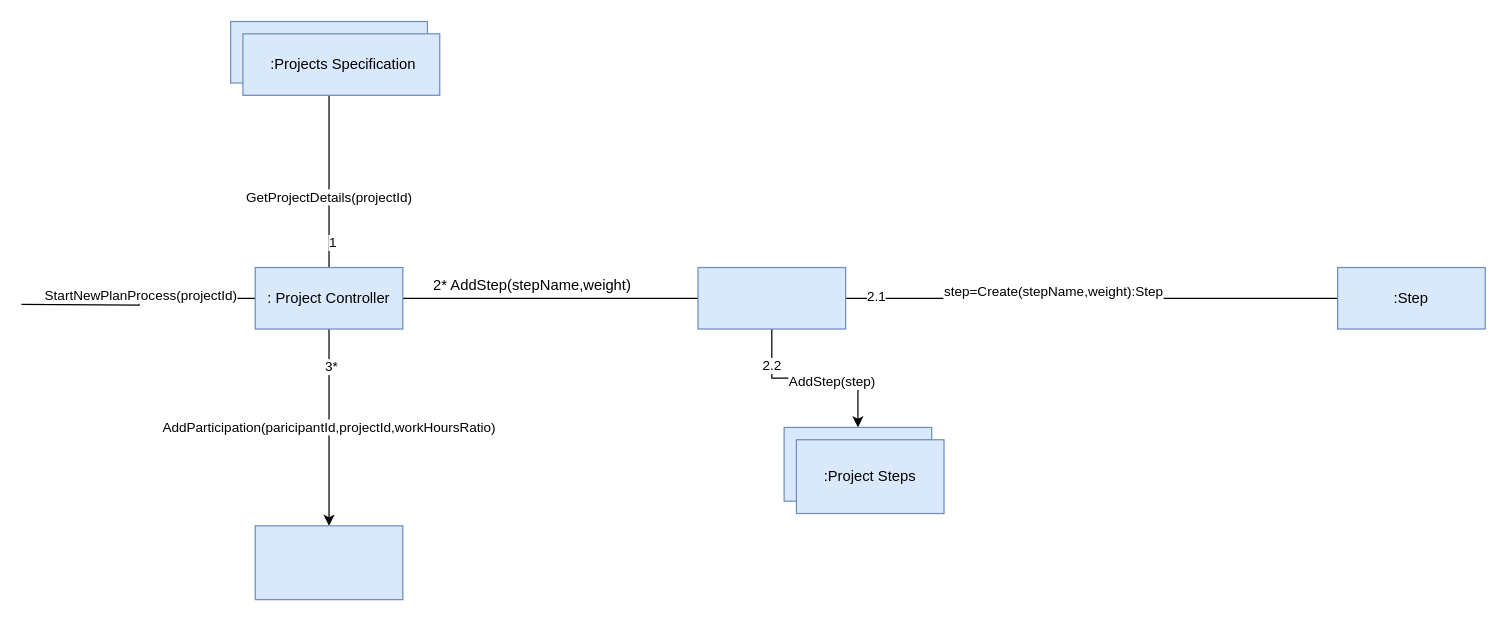
The diagram is 1507 pixels wide and 621 high, and some of its shapes have lost their labels. The centre of each missing label's shape, as x and y in pixels:
":Project" goes at point 771,297.
"Participantions Register" goes at point 328,562.
